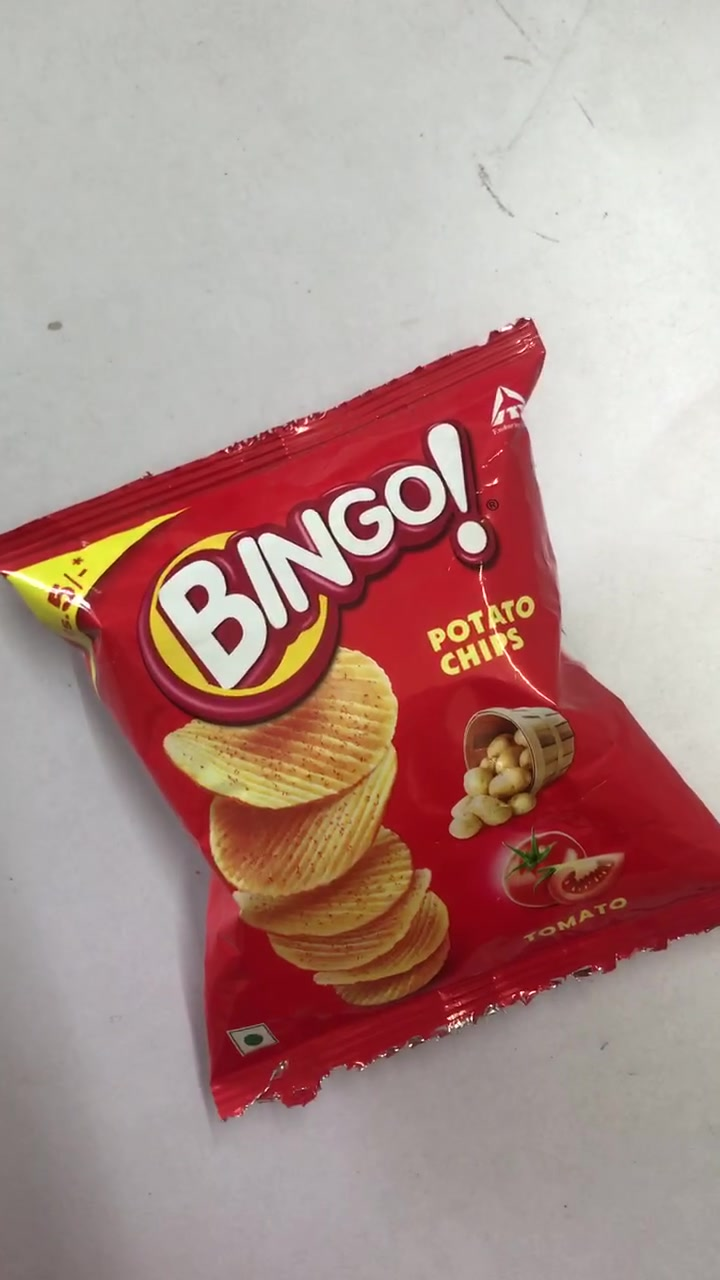Bingo: (1, 321, 720, 1114)
